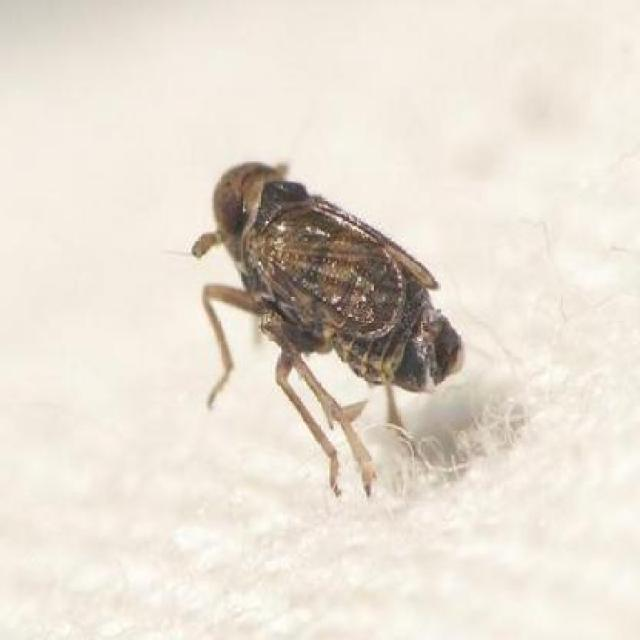brown-planthopper: (192, 144, 466, 498)
